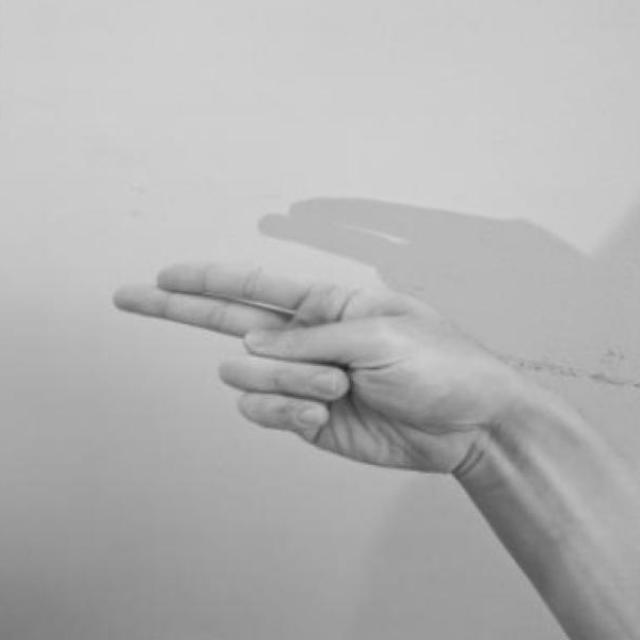H: (106, 225, 530, 508)
